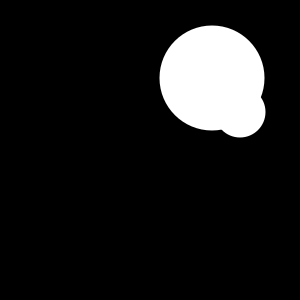rectangle: (160, 26, 264, 130), (215, 86, 266, 138)
triangle: (185, 107, 200, 122)
